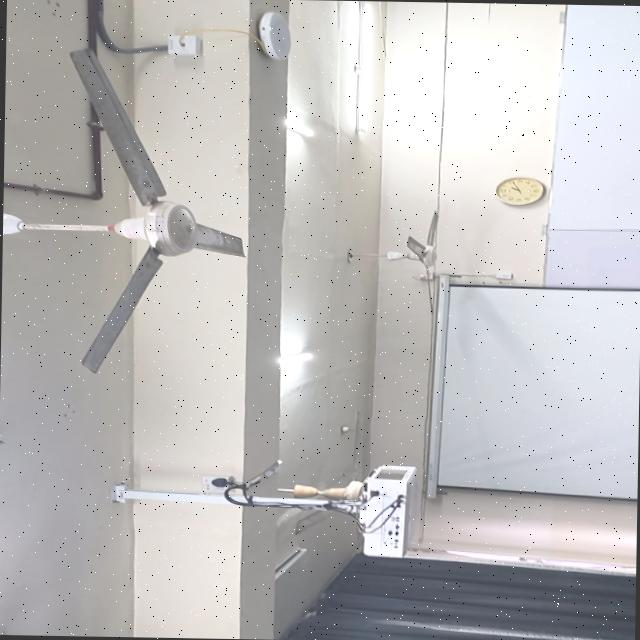Light: (353, 4, 371, 131), (277, 353, 312, 371), (283, 116, 312, 136)
Projector: (357, 466, 414, 557)
